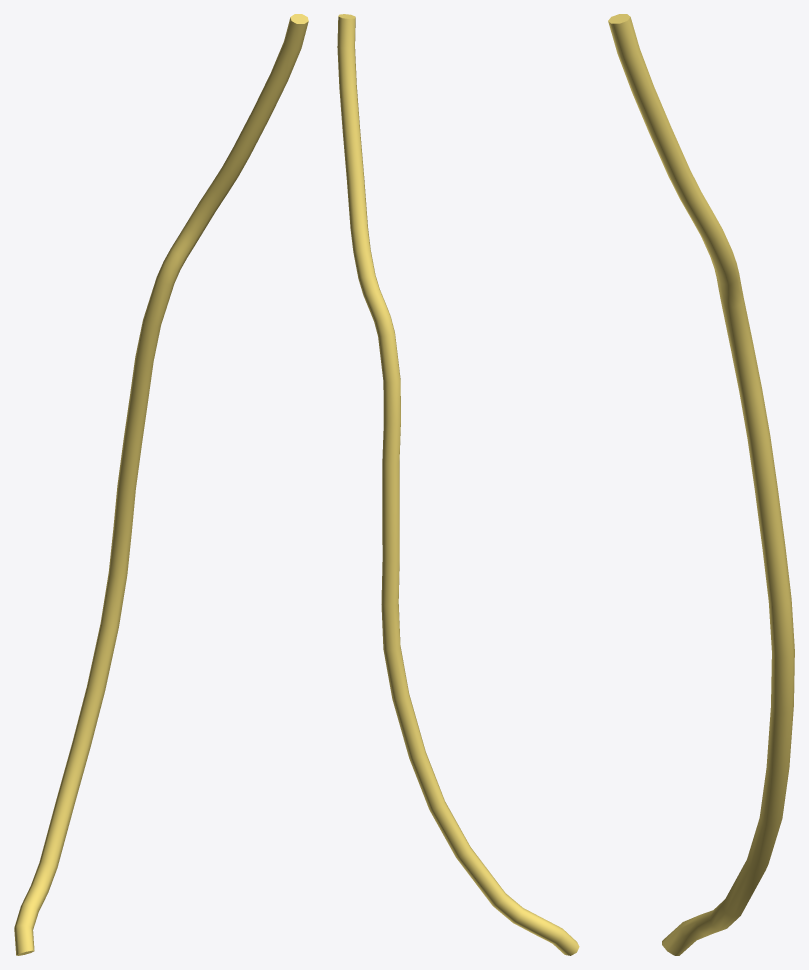
Rendered from nerf-fibulaire-commun.glb.
3 renders of one model, left to right at view 1: azimuth 30°, elevation 25°; view 2: azimuth 150°, elevation 25°; view 3: azimuth 270°, elevation 25°, orthographic. The views are drawn at different scales.
Visible parts, largest first — view 1: nerf-fibulaire-commun; view 2: nerf-fibulaire-commun; view 3: nerf-fibulaire-commun.
Part boxes in pixels (box(x1,y1,x2,y2)): nerf-fibulaire-commun: box(14, 14, 308, 955); nerf-fibulaire-commun: box(337, 14, 579, 955); nerf-fibulaire-commun: box(608, 14, 794, 955).
Size of the model in its own units: 0.0491 by 0.156 by 0.0243.
